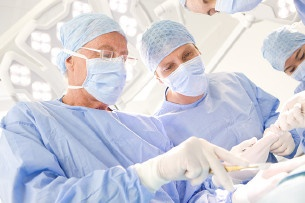Mask: (72, 43, 133, 103)
